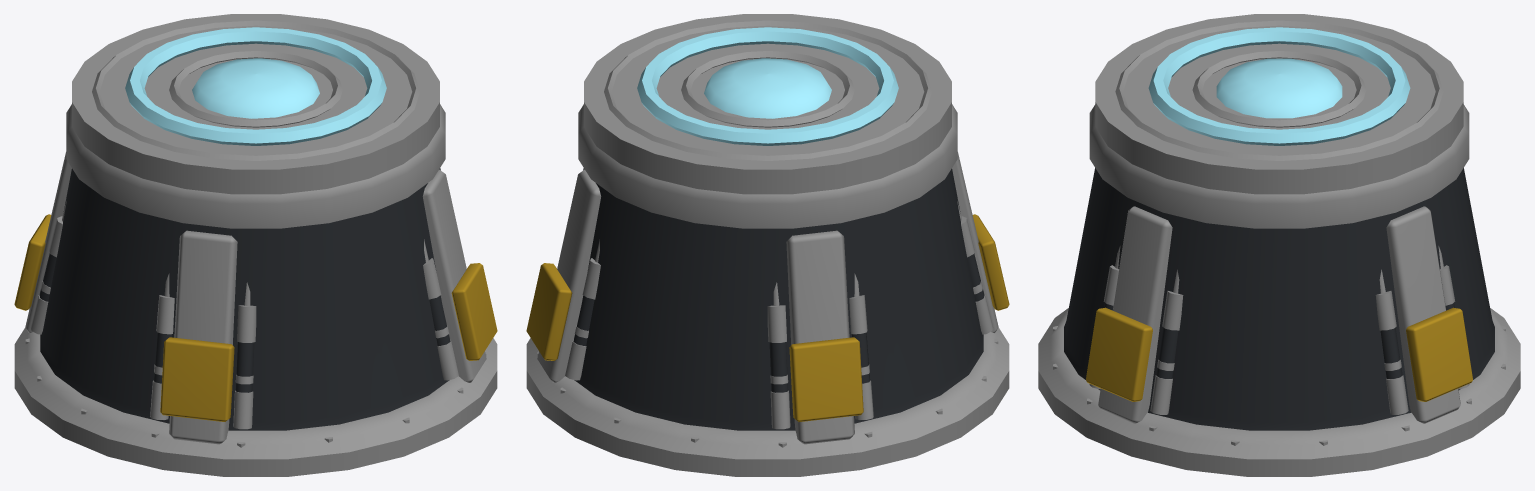
The model's file is Core_TetherAnchor.fbx.
3 views of the same model, side by side, from view 1: azimuth 30°, elevation 25°; view 2: azimuth 150°, elevation 25°; view 3: azimuth 270°, elevation 25° (orthographic).
Visible parts, largest first — view 1: Core_TetherAnchor_LOD0; view 2: Core_TetherAnchor_LOD0; view 3: Core_TetherAnchor_LOD0.
Boxes of the visible parts, <box> form: Core_TetherAnchor_LOD0: <box>14,14,497,476</box>; Core_TetherAnchor_LOD0: <box>526,14,1009,476</box>; Core_TetherAnchor_LOD0: <box>1038,14,1520,476</box>.
Size of what is drawn, in the model's own units: 2.47 by 1.7 by 2.47.
